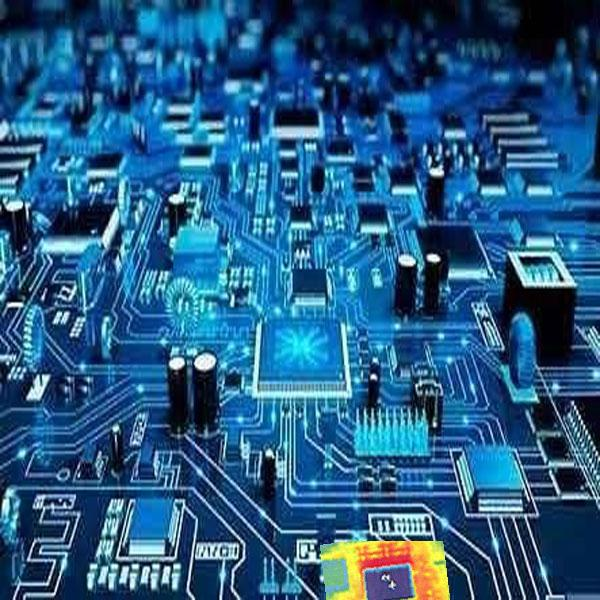componente_T: (319, 537, 450, 600)
